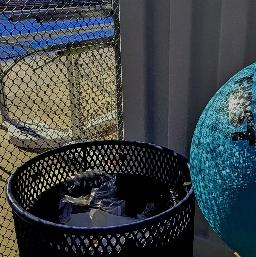algae: (193, 49, 256, 257)
